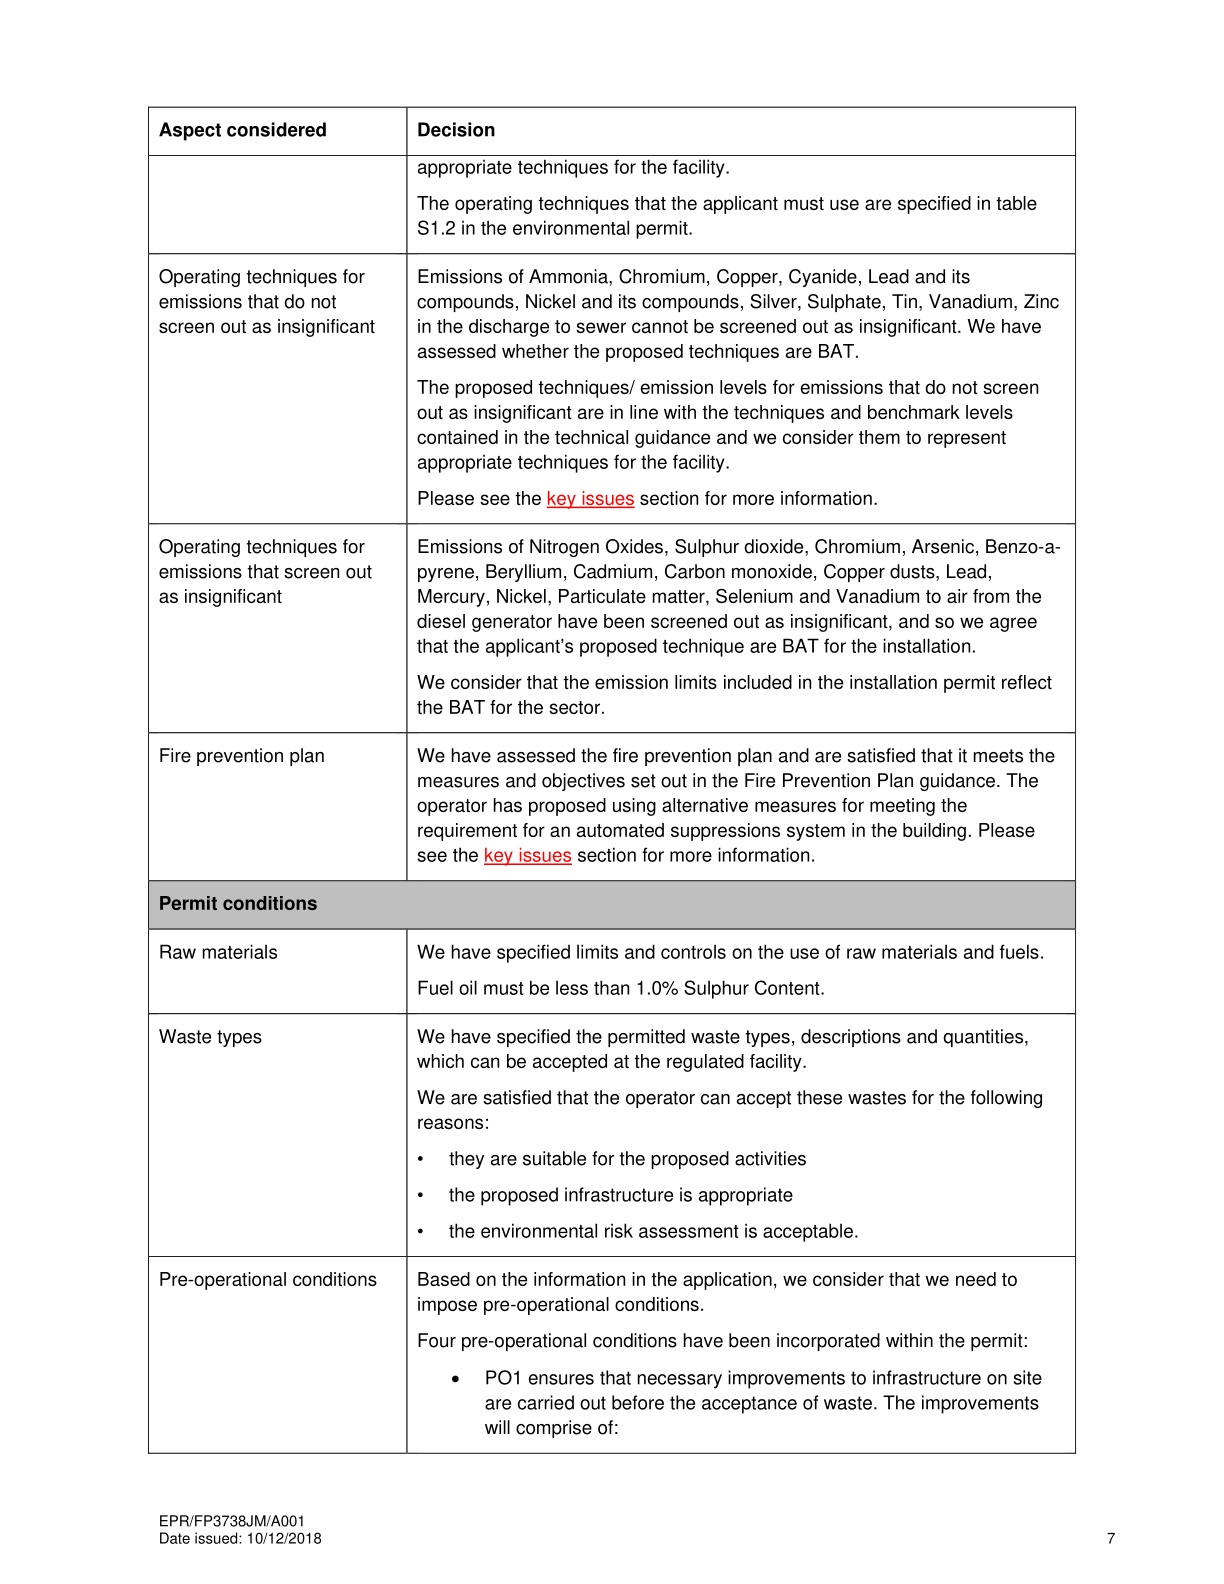merged_cells: (147, 105, 1076, 1455)
